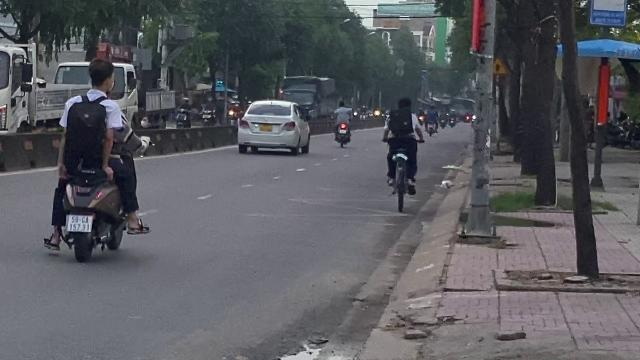licenseplate: (67, 216, 91, 232)
motorcyclist: (43, 53, 147, 263)
nohelmet: (85, 57, 116, 94)
